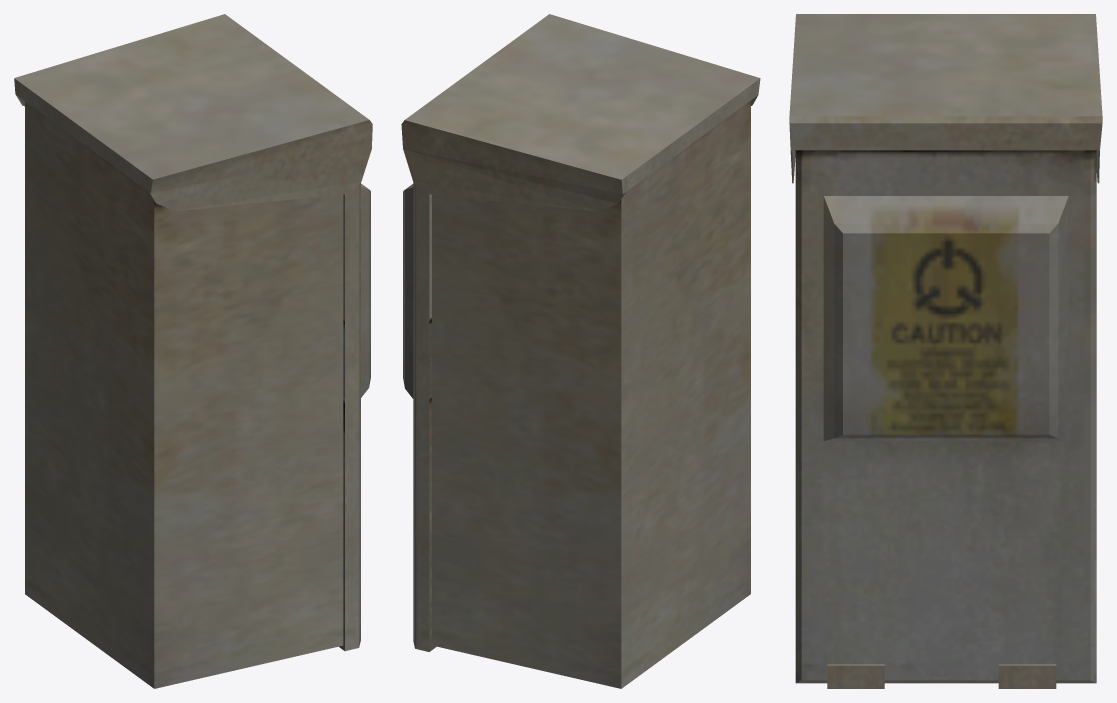
Rendered from powerbox02b.glb.
3 renders of one model, left to right at view 1: azimuth 30°, elevation 25°; view 2: azimuth 150°, elevation 25°; view 3: azimuth 270°, elevation 25°, orthographic. The views are drawn at different scales.
Visible parts, largest first — view 1: powerbox02b; view 2: powerbox02b; view 3: powerbox02b.
Boxes of the visible parts, left/top/right/bottom form: powerbox02b: left=14, top=14, right=372, bottom=688; powerbox02b: left=401, top=14, right=760, bottom=688; powerbox02b: left=789, top=14, right=1102, bottom=688.
Size of the model in its own units: 0.2328 by 0.4913 by 0.2433.
Materials: 1 (1 with a texture image).
